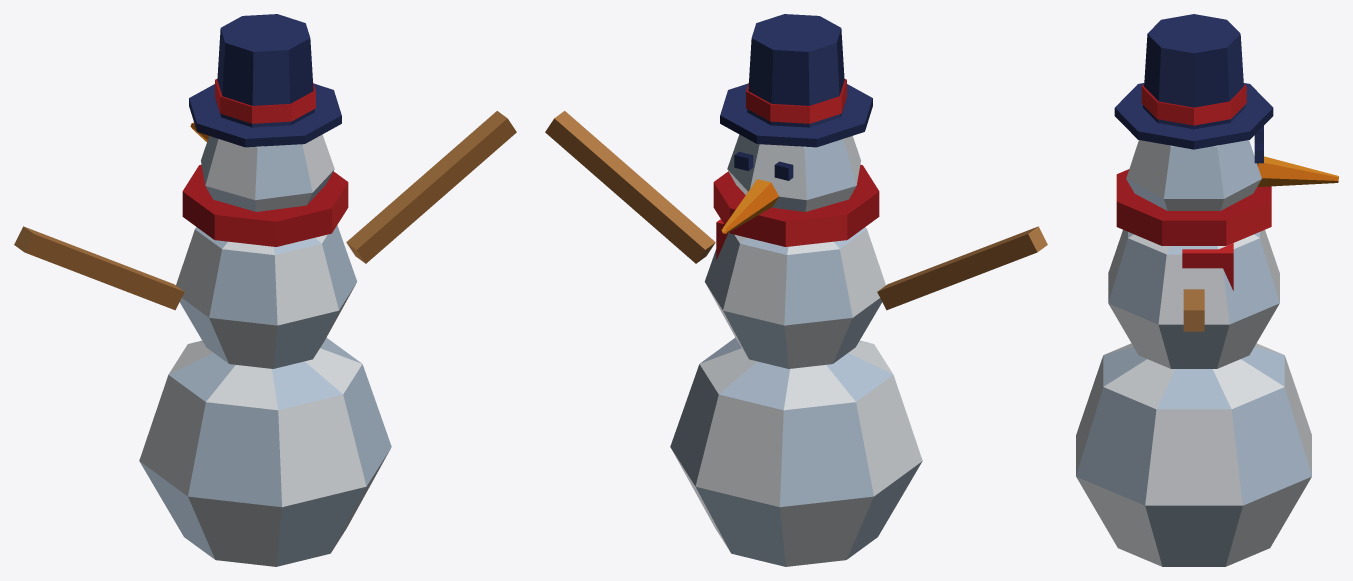
The model's file is prop-snowman.glb.
3 renders of one model, left to right at view 1: azimuth 30°, elevation 25°; view 2: azimuth 150°, elevation 25°; view 3: azimuth 270°, elevation 25°, orthographic.
Visible parts, largest first — view 1: snowman; view 2: snowman; view 3: snowman.
Part boxes in pixels (left/top/right/bottom): snowman: left=14, top=14, right=516, bottom=566; snowman: left=545, top=14, right=1047, bottom=566; snowman: left=1076, top=14, right=1338, bottom=566.
Size of the model in its own units: 2.45 by 2.37 by 1.13.
